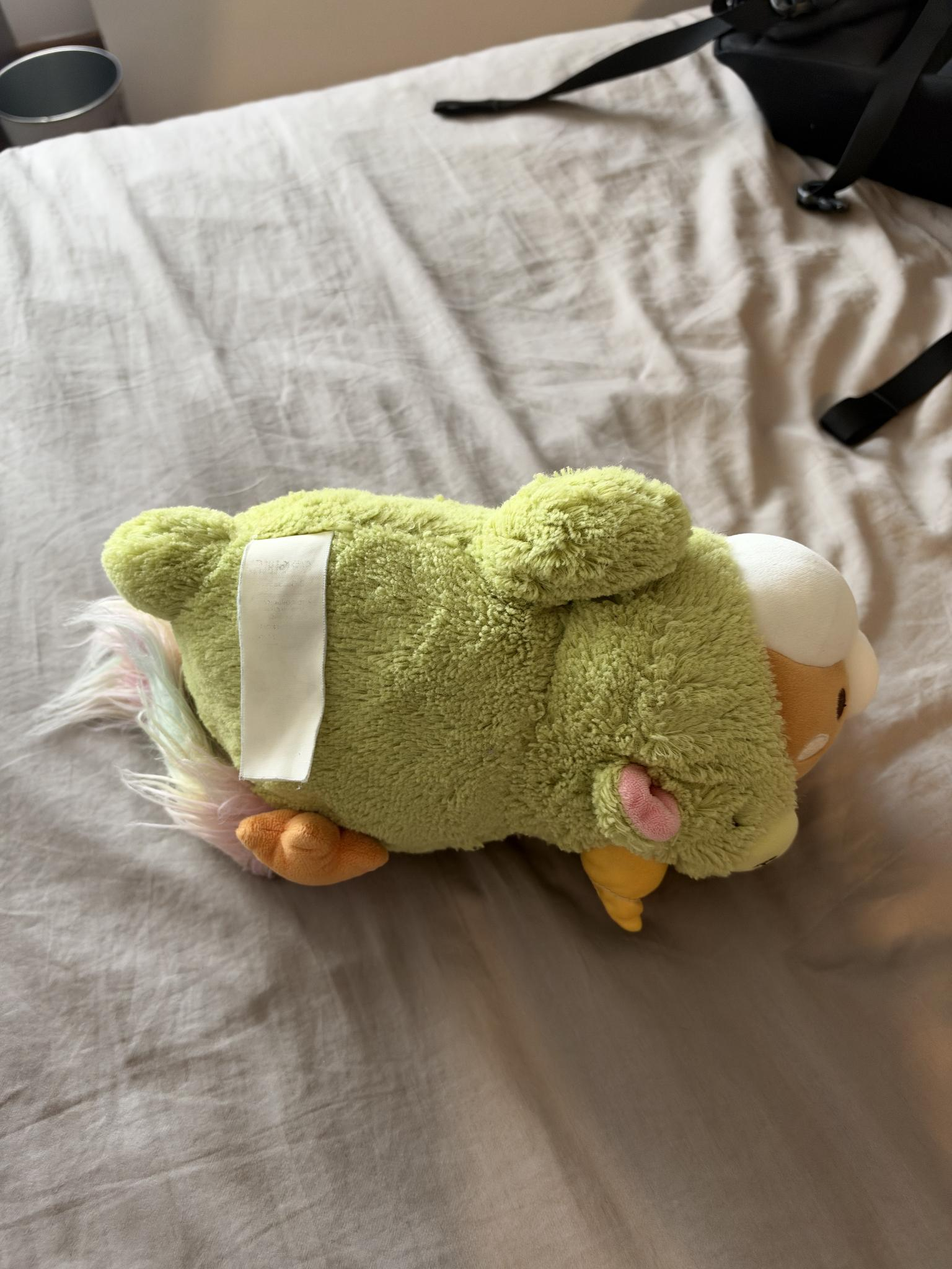peluche_martin: (29, 464, 883, 935)
